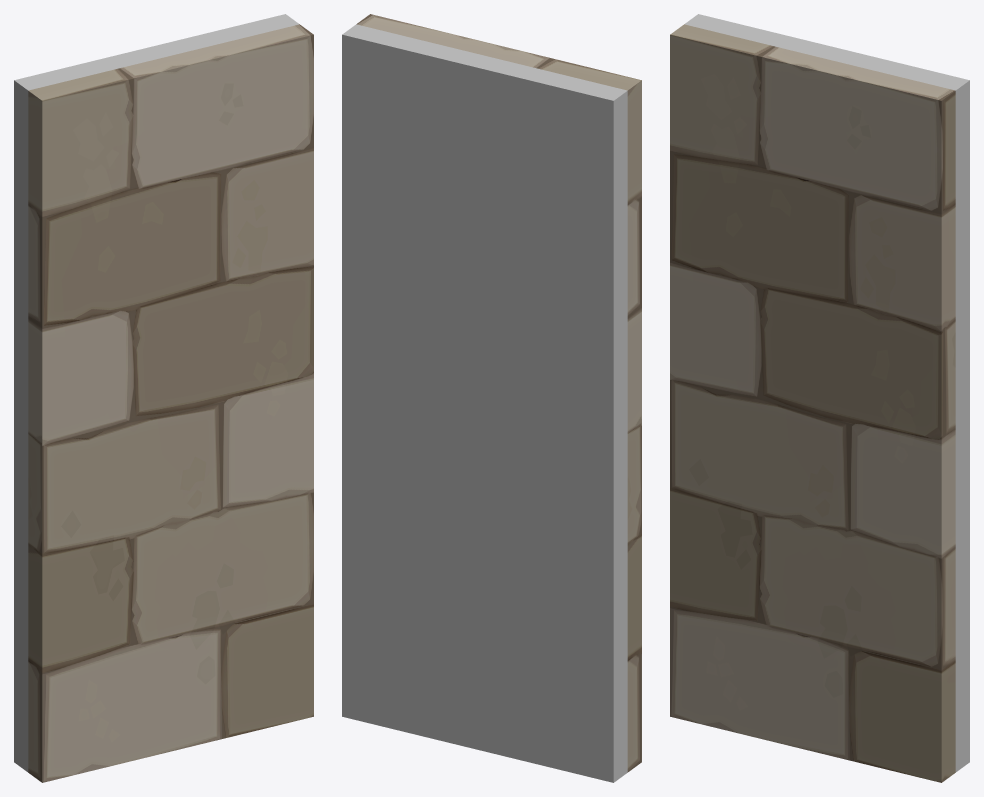
File: SM_Bld_Wall_Half_01.fbx
3 views of the same model, side by side, from view 1: azimuth 30°, elevation 25°; view 2: azimuth 150°, elevation 25°; view 3: azimuth 330°, elevation 25° (orthographic).
Parts seen in each view (by area): view 1: SM_Bld_Wall_Half_01; view 2: SM_Bld_Wall_Half_01; view 3: SM_Bld_Wall_Half_01.
Boxes of the visible parts, x1,y1,x2,y2 form: SM_Bld_Wall_Half_01: (14, 14, 313, 782); SM_Bld_Wall_Half_01: (342, 14, 641, 782); SM_Bld_Wall_Half_01: (670, 14, 969, 782).
Bounding box in the file's own units: 125 × 300 × 22.5.
